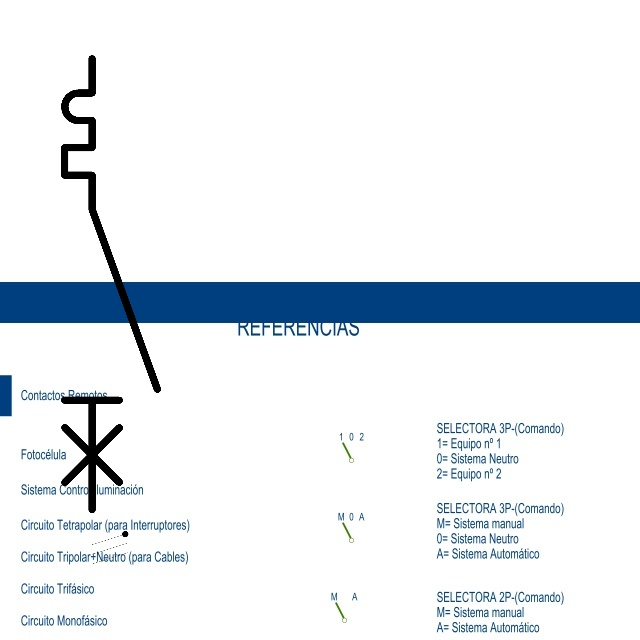interruptor_termomagnetico: (53, 47, 169, 521)
